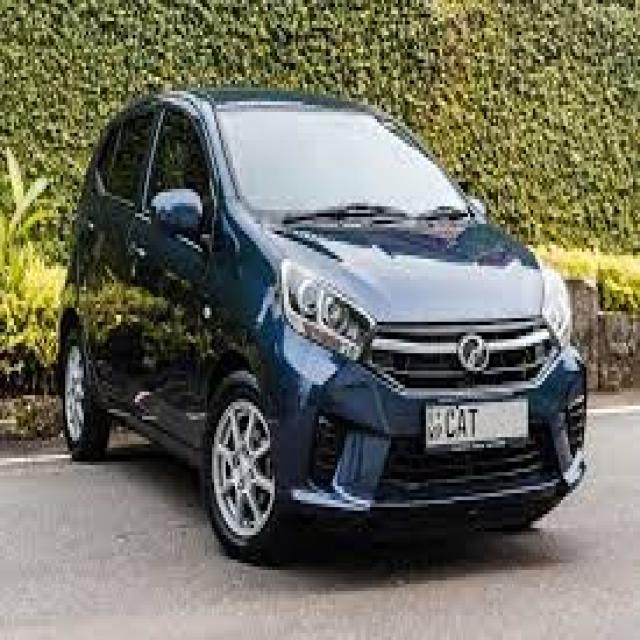PeroduaAxia: (53, 80, 589, 563)
